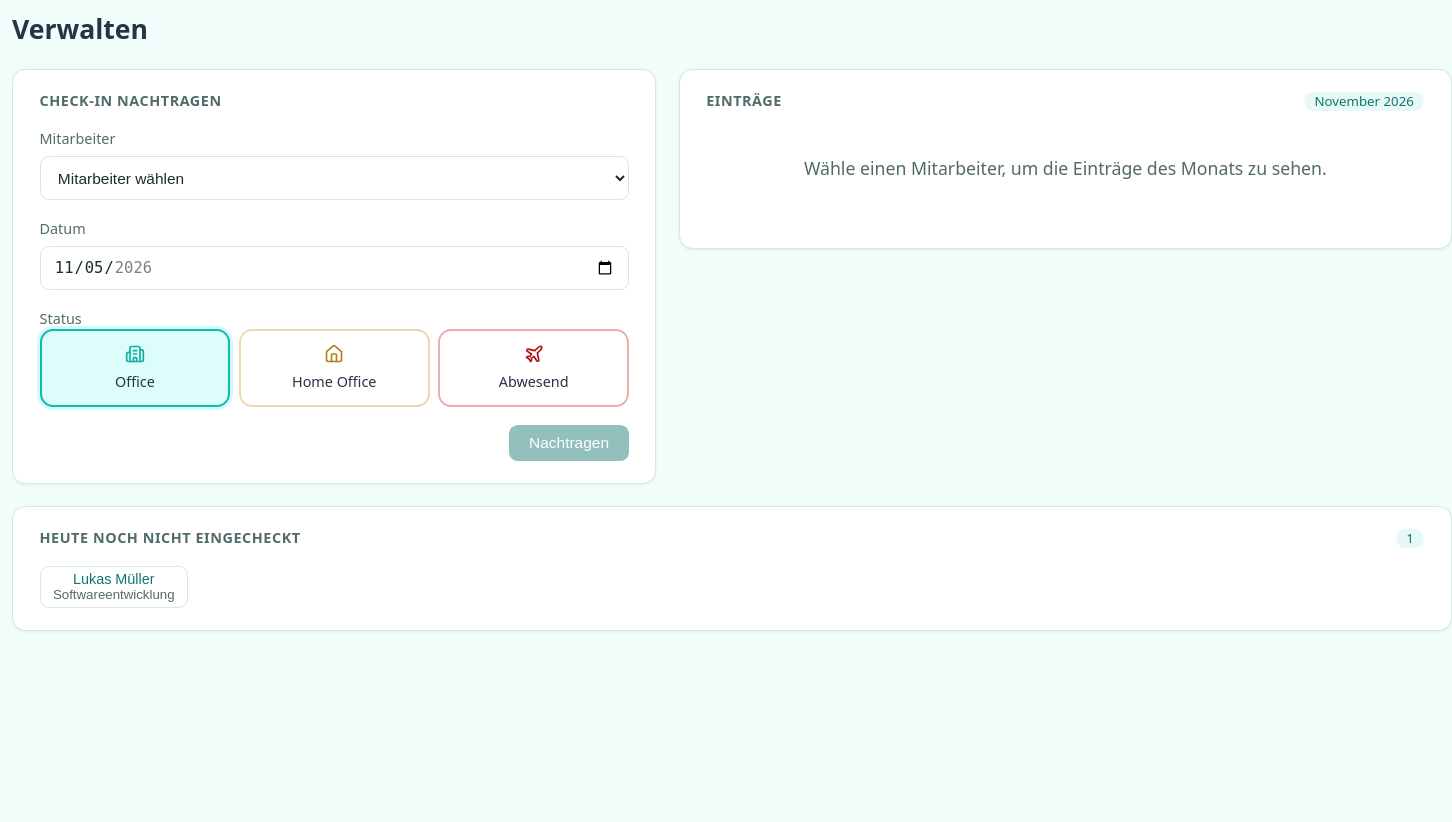
Manage page: entries of the month › copies date and status into the form via "Bearbeiten"
The image size is (1452, 822).
Select "Anna Adler" in the dropdown at {"x": 334, "y": 178}, box [40, 156, 629, 200]
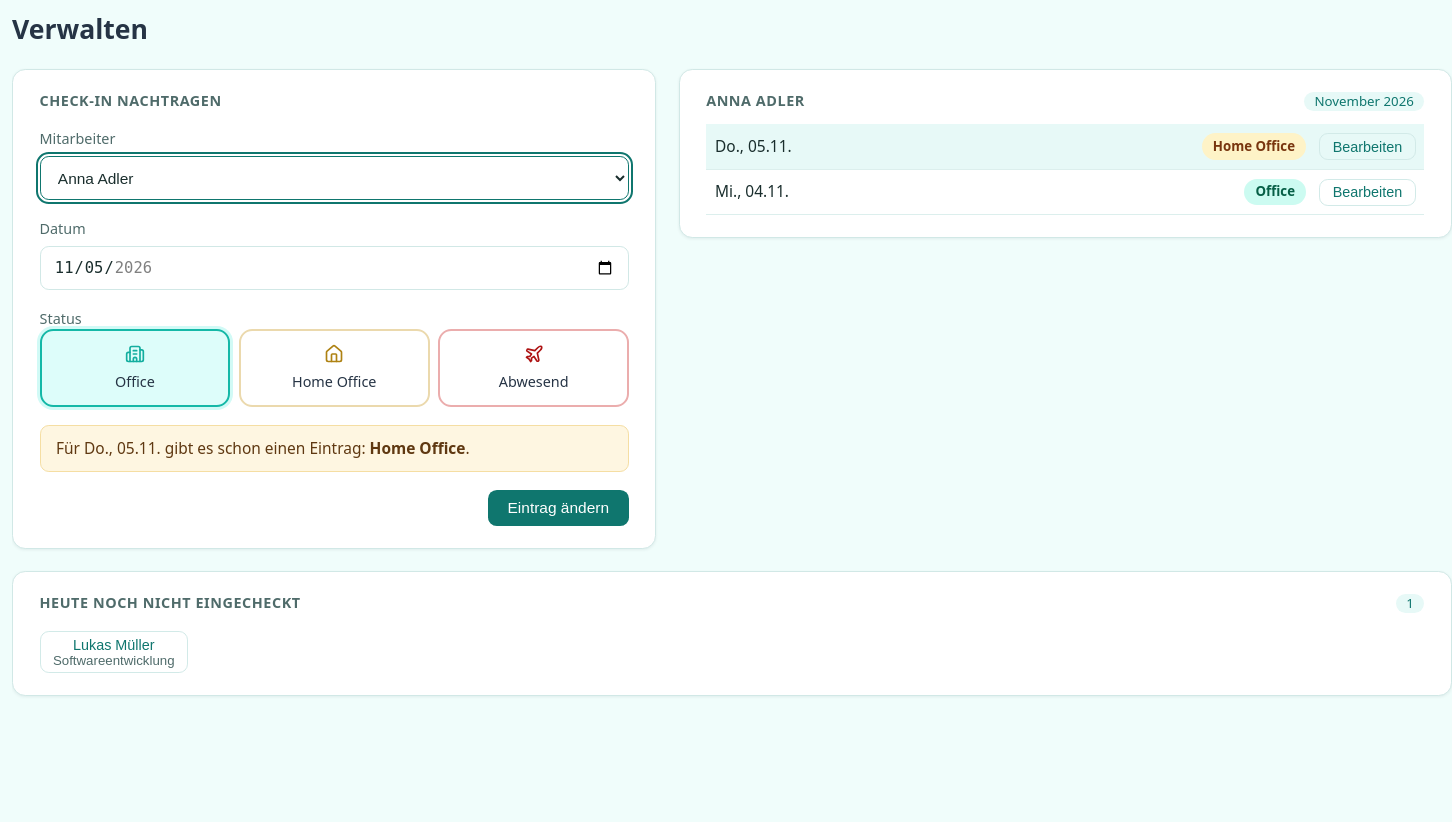
Click the button "Bearbeiten" in the row of "Mi., 04.11." at {"x": 1367, "y": 192}, box [1319, 179, 1416, 206]
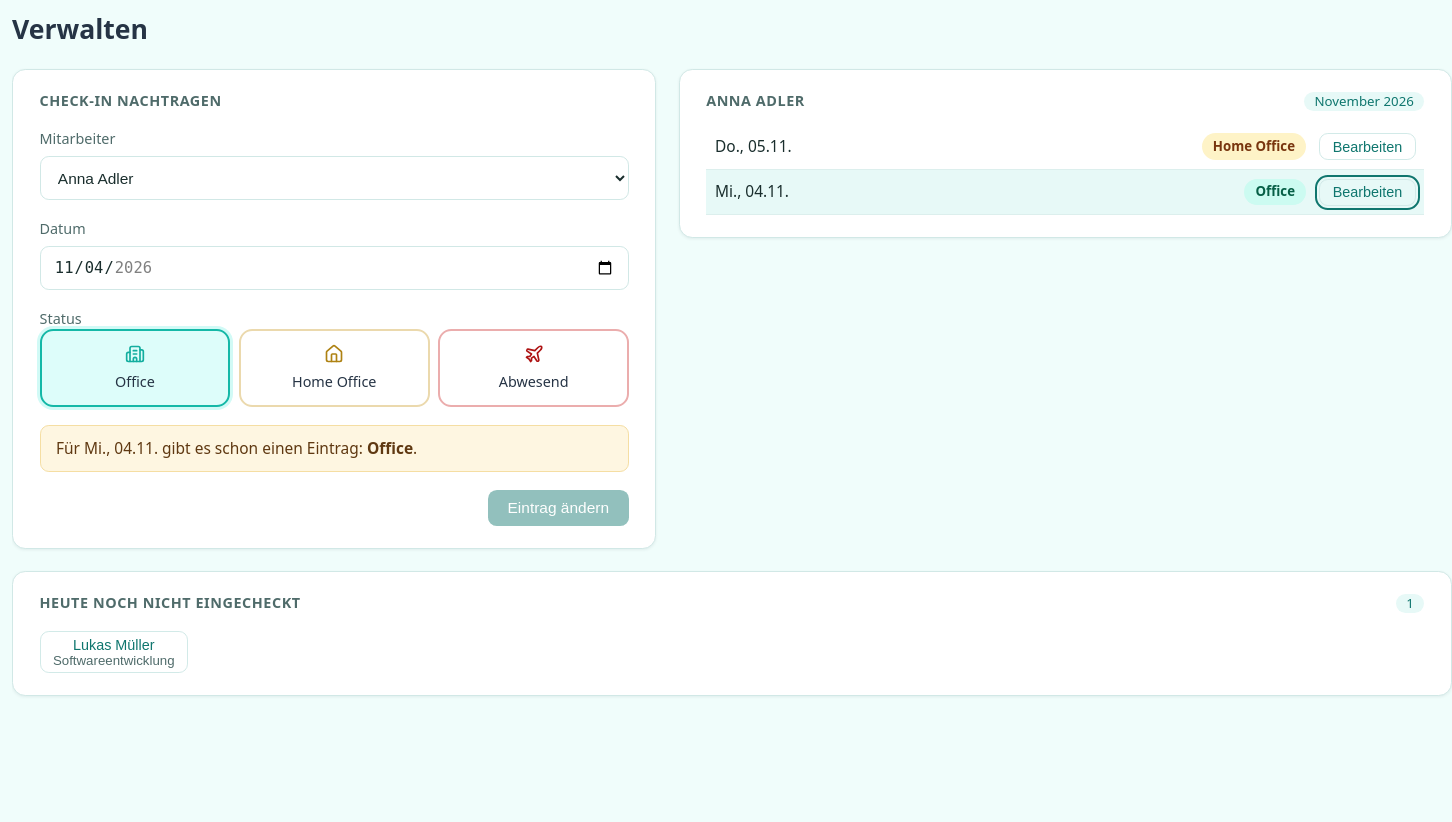
Check: the radio button labelled "Office" is checked, box [40, 329, 230, 407]
Check: the date field labelled "Datum" holds "2026-11-04", box [40, 246, 629, 290]
